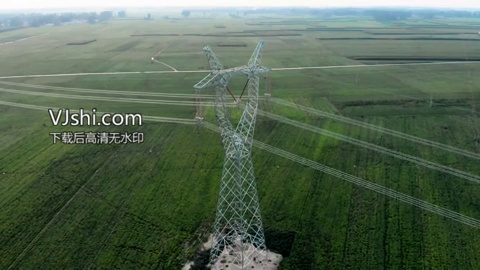tower_body: (186, 39, 282, 270)
tower_foot: (212, 209, 270, 269)
tower_head: (190, 41, 271, 158)
